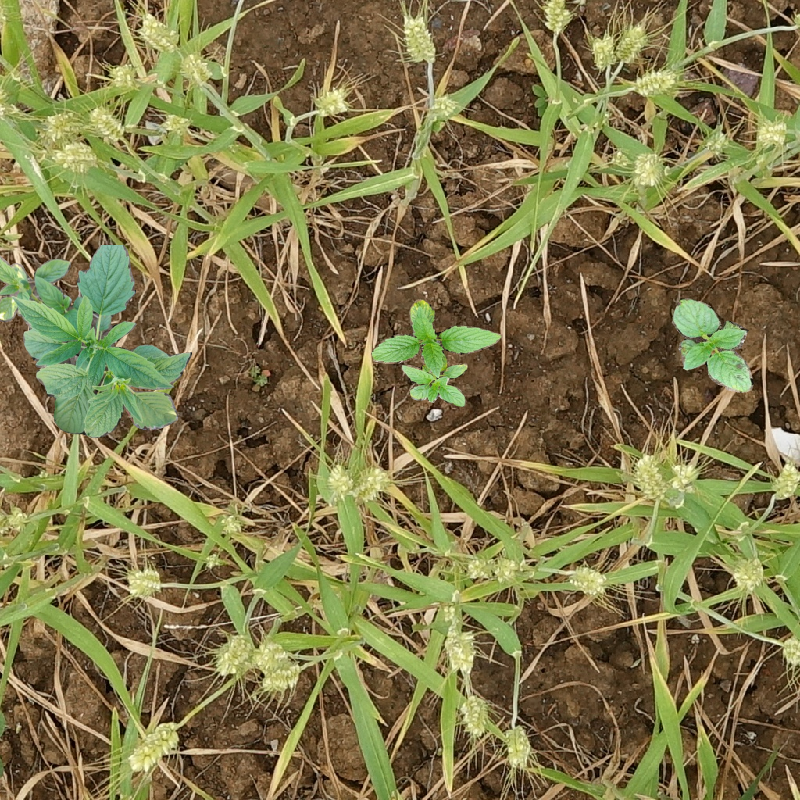spikelet: (127, 720, 180, 774), (400, 12, 436, 65), (213, 632, 253, 676), (632, 452, 666, 500), (632, 66, 681, 98), (138, 13, 179, 51), (51, 140, 98, 173), (501, 723, 533, 771), (88, 104, 126, 144), (443, 627, 476, 673), (458, 692, 490, 738), (352, 464, 389, 503), (614, 22, 648, 63), (39, 109, 80, 143), (630, 150, 666, 188), (568, 564, 608, 596), (125, 566, 163, 599), (260, 662, 301, 692), (731, 555, 765, 591), (769, 461, 799, 501), (253, 638, 290, 670), (313, 86, 349, 117), (754, 118, 789, 149), (325, 463, 353, 501), (540, 1, 572, 34), (180, 51, 211, 85), (589, 32, 617, 69), (492, 555, 525, 586), (106, 61, 139, 91), (426, 93, 460, 122), (668, 462, 699, 492), (1, 505, 31, 536), (214, 510, 243, 537), (160, 112, 192, 136), (780, 634, 799, 670), (703, 130, 728, 155), (1, 70, 13, 120)
weed: (1, 245, 192, 438), (371, 299, 502, 407), (672, 298, 754, 393)
